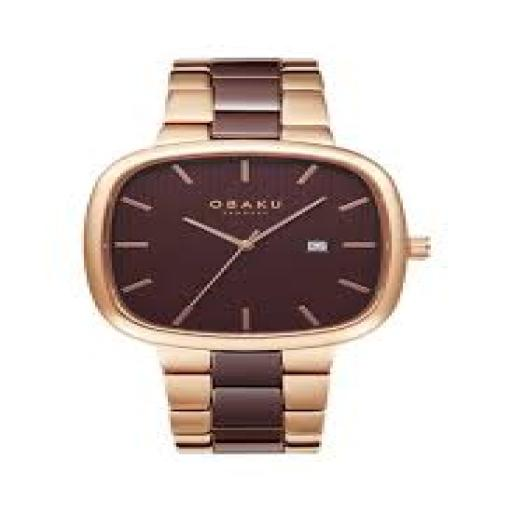KolSaati: (52, 28, 438, 480)
